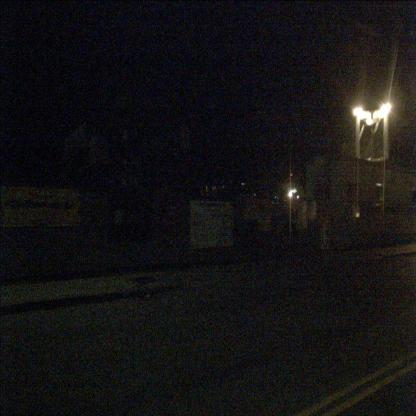human-pedestrian-adult: (320, 211, 334, 290)
